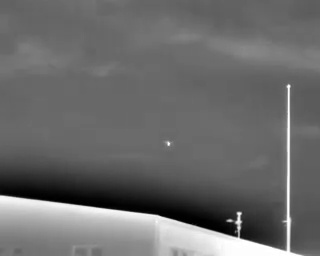HELICOPTER: (162, 137, 175, 150)
